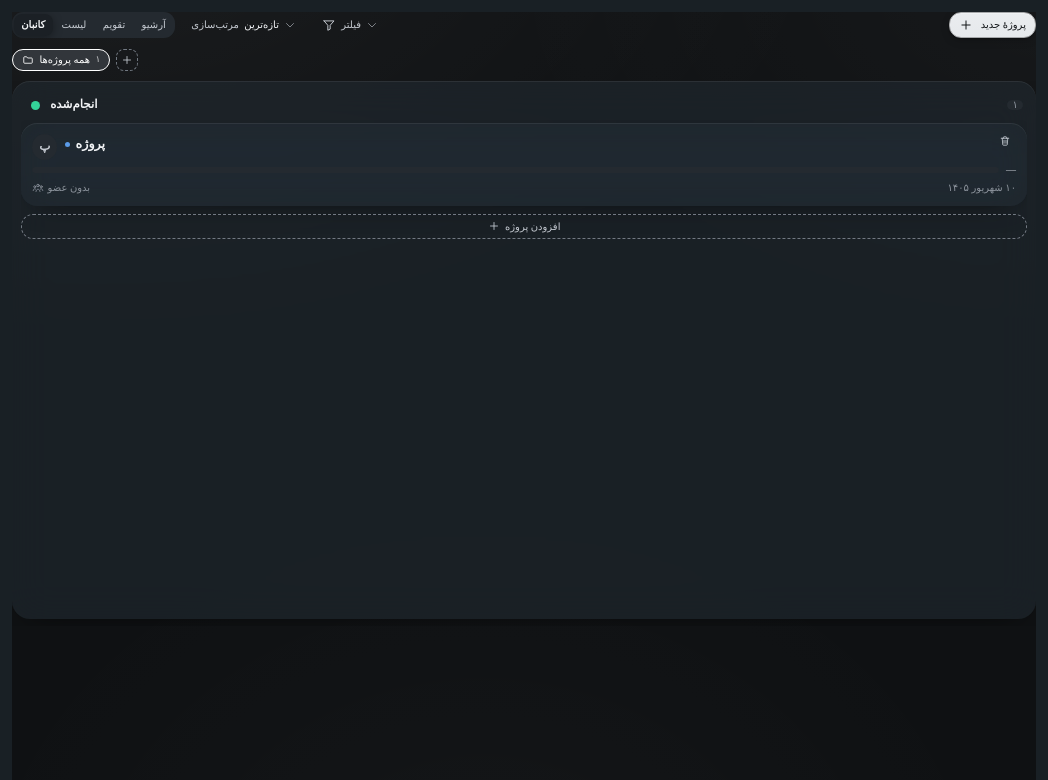
Scenario: Projects › offers the sort as a MENU on the row that reads its answer, never a dropdown
Expected: the heading "پروژه" is shown, [76, 134, 105, 154]
Click the button "مرتب‌سازی تازه‌ترین" at [244, 25], box [182, 12, 306, 38]
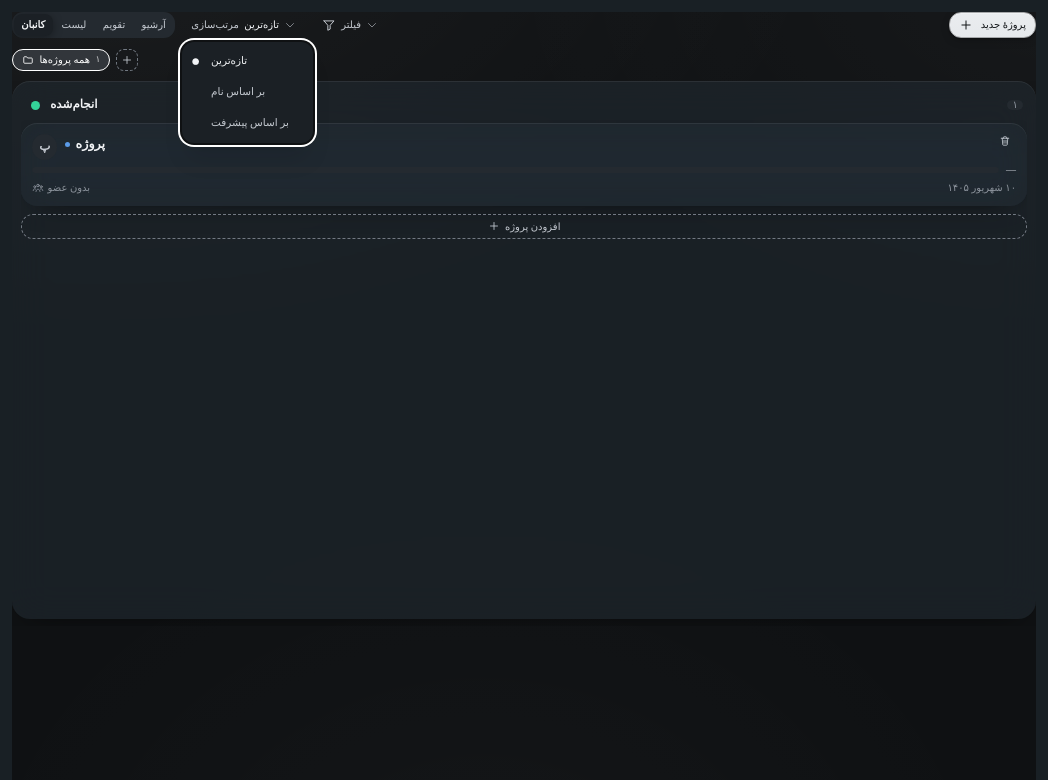
Now the menu item "تازه‌ترین" is shown, box [192, 55, 247, 66]
Now the menu item "بر اساس نام" is shown
Now the menu item "بر اساس پیشرفت" is shown, box [211, 117, 289, 128]
Click the menu item "بر اساس نام" at [238, 92], box [211, 86, 265, 97]
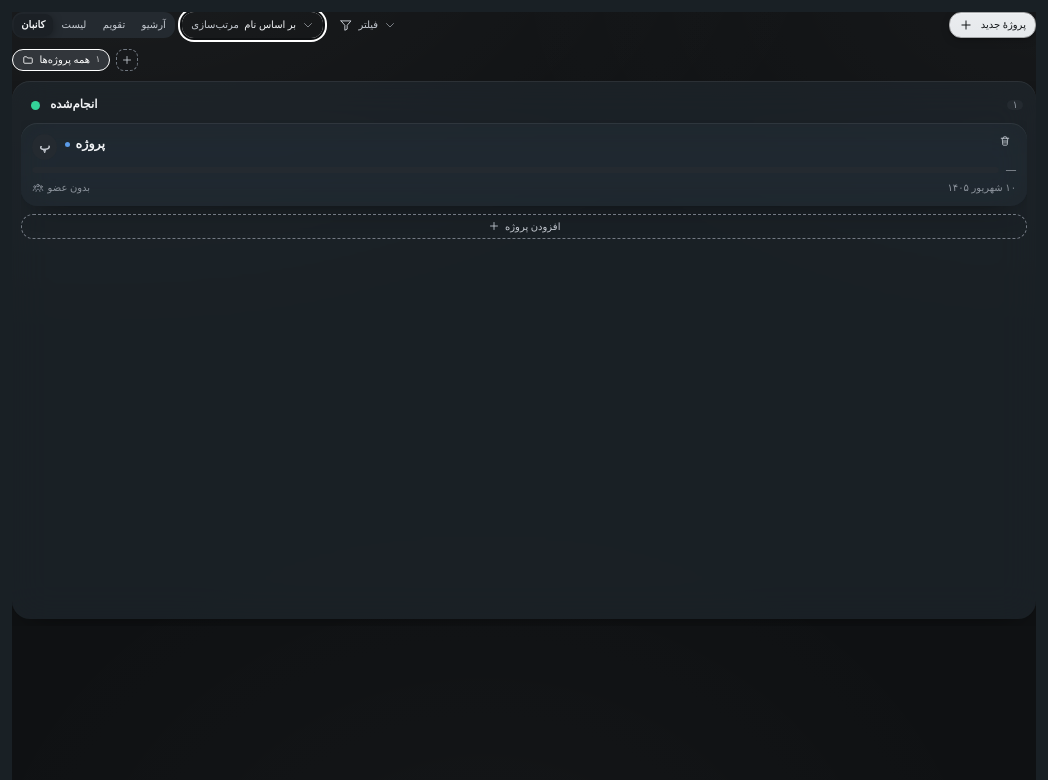
Now the button "مرتب‌سازی بر اساس نام" is shown, box [182, 12, 323, 38]
